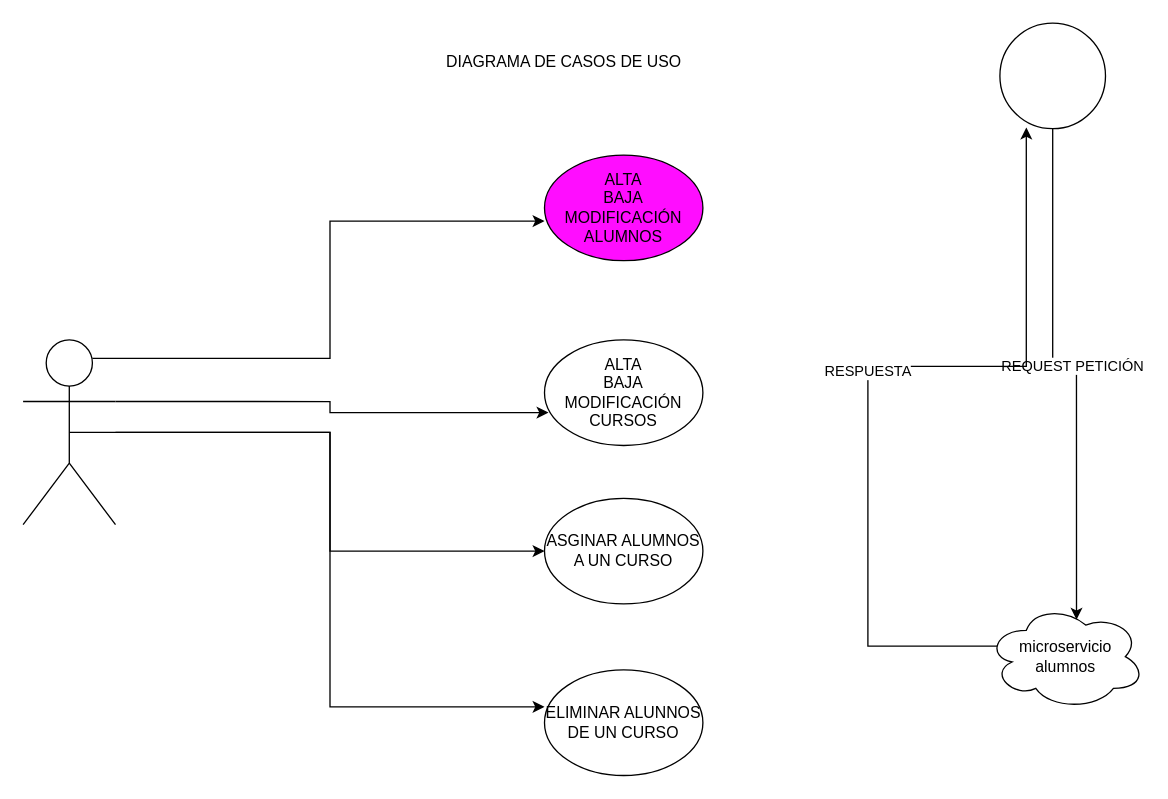
This 1168x799 diagram has some shape labels left out. The box of each missing label's shape, as (x1, y1, x2, y2) in pixels:
Actor: (22, 339, 116, 525)
cliente NAVEGADOR: (999, 22, 1106, 129)
